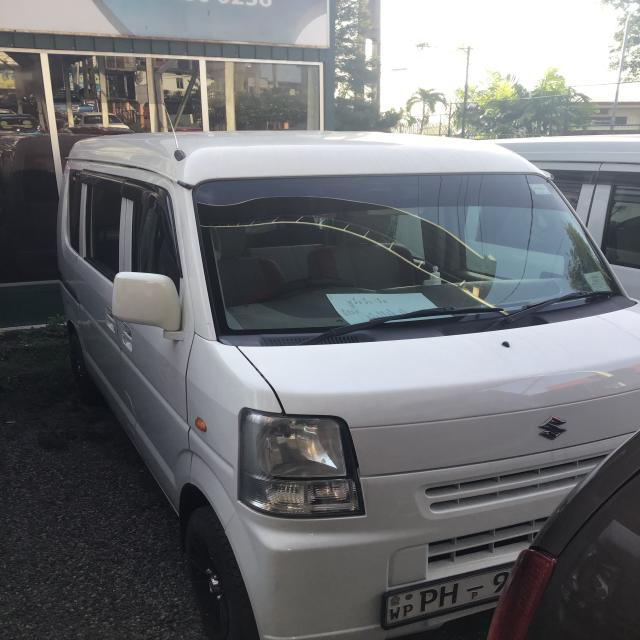car: (59, 126, 640, 640), (444, 131, 640, 345)
